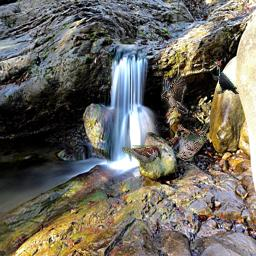Crow: (161, 74, 188, 114)
Sparrow: (176, 121, 210, 161), (122, 145, 162, 173)
Woodpecker: (214, 61, 239, 94)
